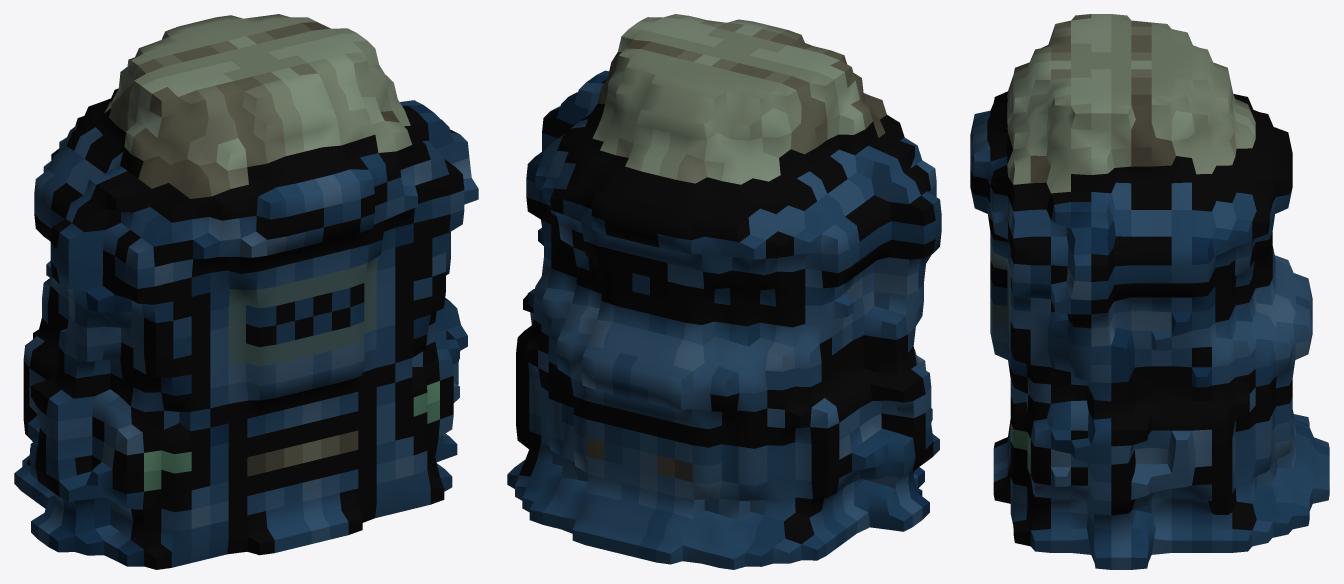
File: Icon_711_02.obj
3 renders of one model, left to right at view 1: azimuth 30°, elevation 25°; view 2: azimuth 150°, elevation 25°; view 3: azimuth 270°, elevation 25°, orthographic. The views are drawn at different scales.
Size of the model in its own units: 2.2 by 2.3 by 1.78.
